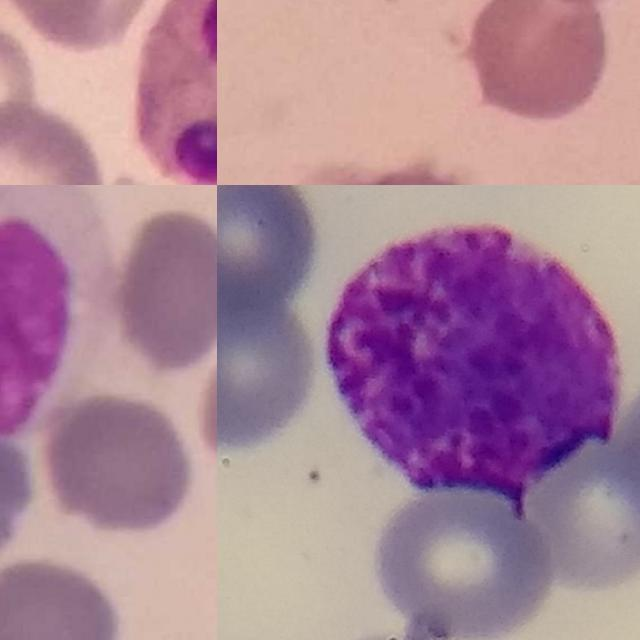Basophil: (323, 222, 621, 497)
Monocyte: (0, 185, 118, 463)
Neutrophil: (133, 0, 217, 185)
